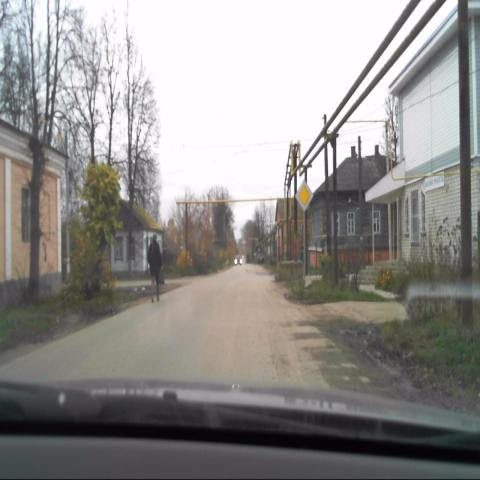2_1: (294, 181, 313, 212)
